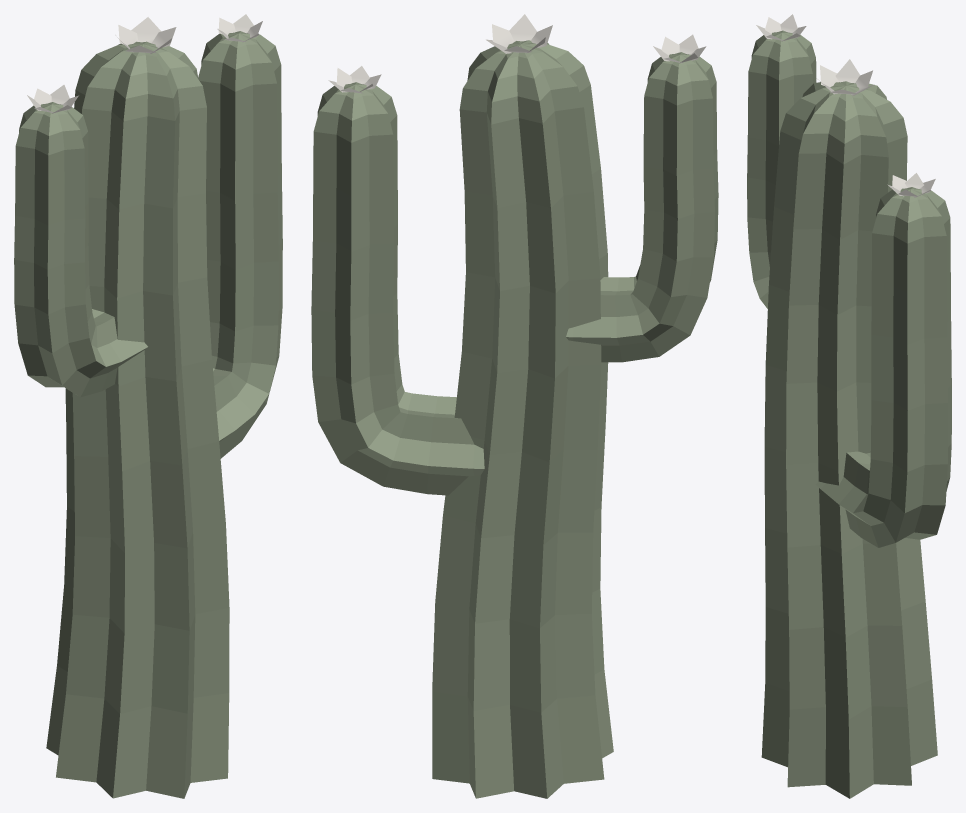
File: cactus_a.glb
3 renders of one model, left to right at view 1: azimuth 30°, elevation 25°; view 2: azimuth 150°, elevation 25°; view 3: azimuth 270°, elevation 25°, orthographic. The views are drawn at different scales.
Parts seen in each view (by area): view 1: Body; view 2: Body; view 3: Body.
Boxes of the visible parts, bbox=[...] form: Body: bbox=[14, 14, 282, 798]; Body: bbox=[311, 14, 718, 798]; Body: bbox=[747, 14, 951, 798].
Bounding box in the file's own units: 2.25 × 4.76 × 1.27.
